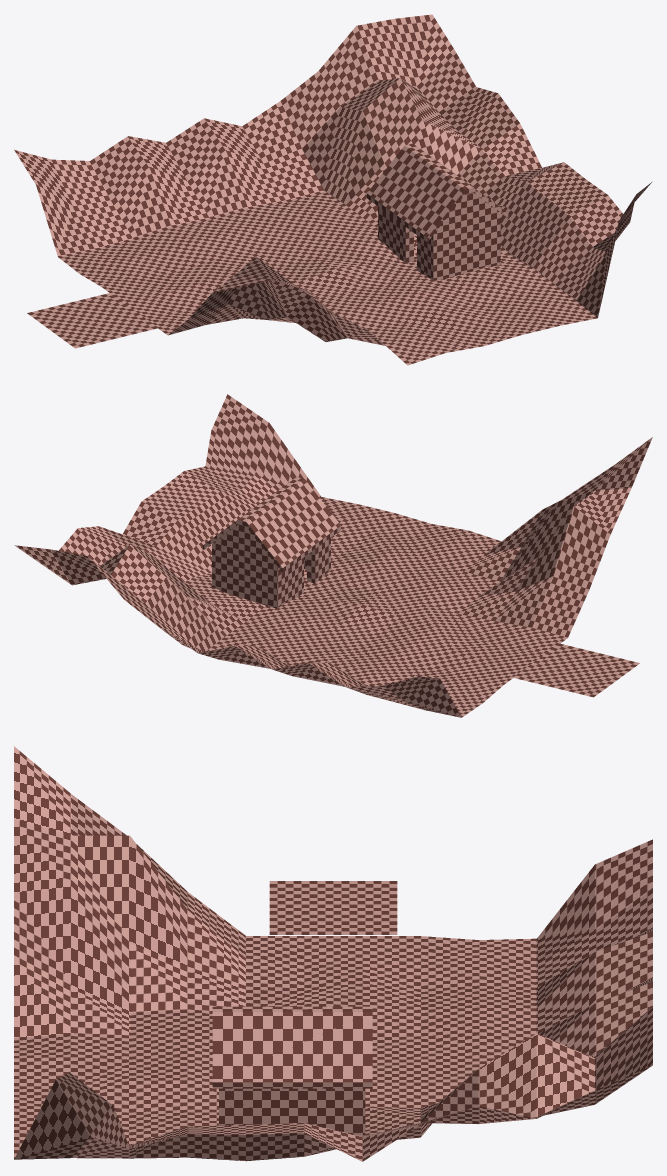
3 renders of one model, top to bottom at view 1: azimuth 30°, elevation 25°; view 2: azimuth 150°, elevation 25°; view 3: azimuth 270°, elevation 25°, orthographic. The views are drawn at different scales.
Visible parts, largest first — view 1: Ground, House, roof, Plane; view 2: Ground, House, roof, Plane; view 3: Ground, roof, Plane, House.
Boxes of the visible parts, box(x1,y1,x2,y2) form: Ground: box(14, 14, 651, 365); House: box(378, 193, 500, 280); roof: box(367, 143, 509, 242); Plane: box(27, 293, 158, 348); Ground: box(14, 394, 652, 717); House: box(212, 525, 330, 608); roof: box(202, 477, 340, 572); Plane: box(513, 643, 639, 697); Ground: box(14, 746, 652, 1161); roof: box(212, 1006, 372, 1088); Plane: box(269, 881, 397, 934); House: box(219, 1088, 365, 1135).
Bounding box in the file's own units: 120 × 33.6 × 100.
1 material, 1 textured.
